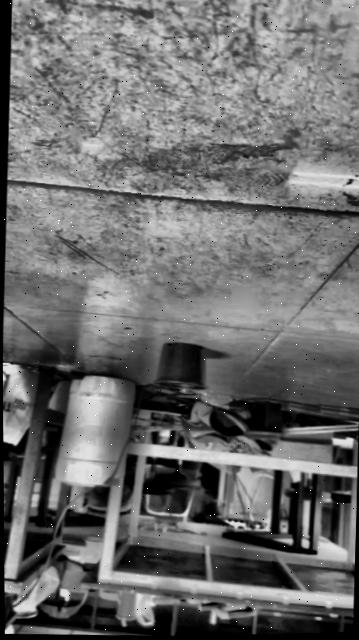pot: (150, 342, 210, 394)
